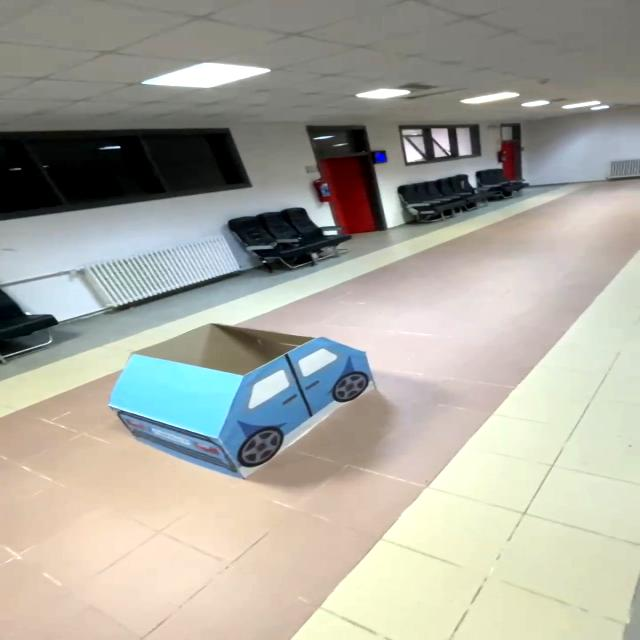blue_car: (92, 311, 397, 495)
